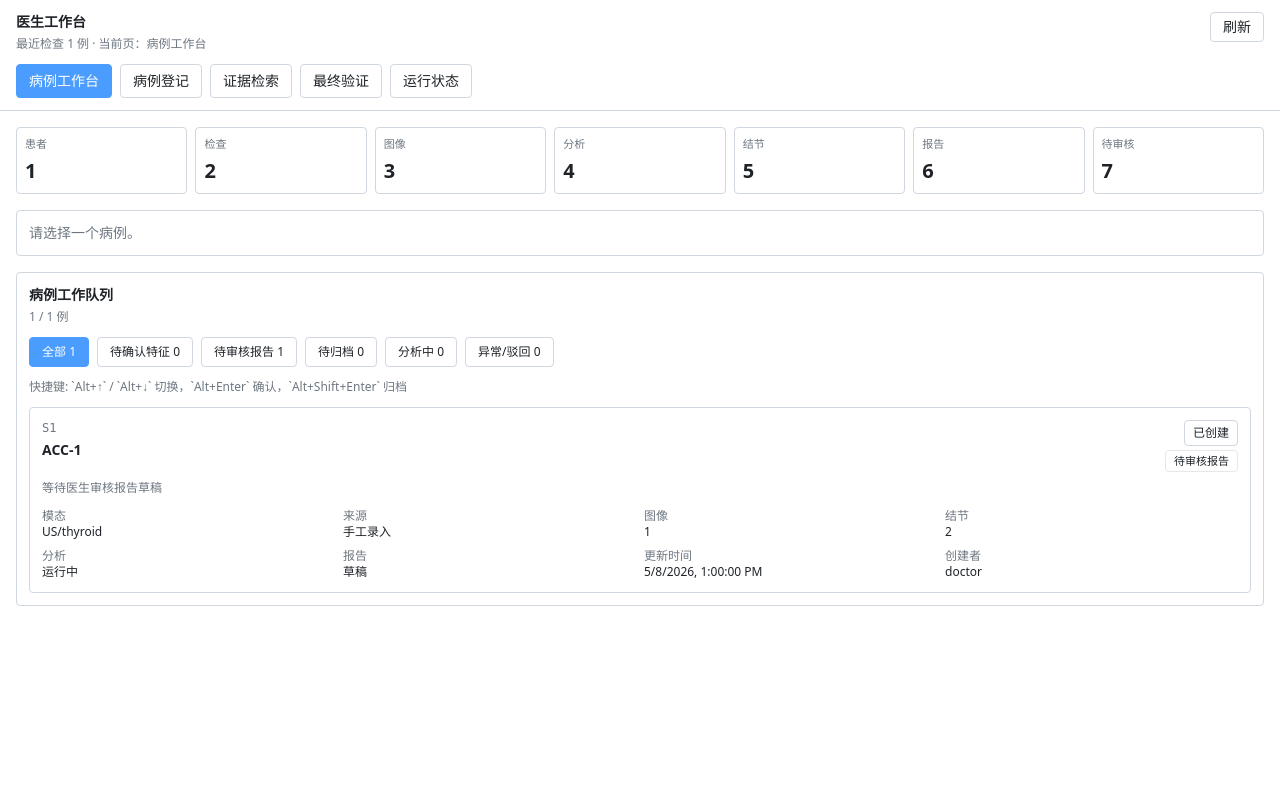
it: MedicalPanel › shows refreshed model evidence for a completed bbox revision audit
Expected: the heading "ACC-1" is shown, [42,440,82,460]
Click the button "ACC-1" at [640, 500], box [29,406,1251,593]
(page scrolled)
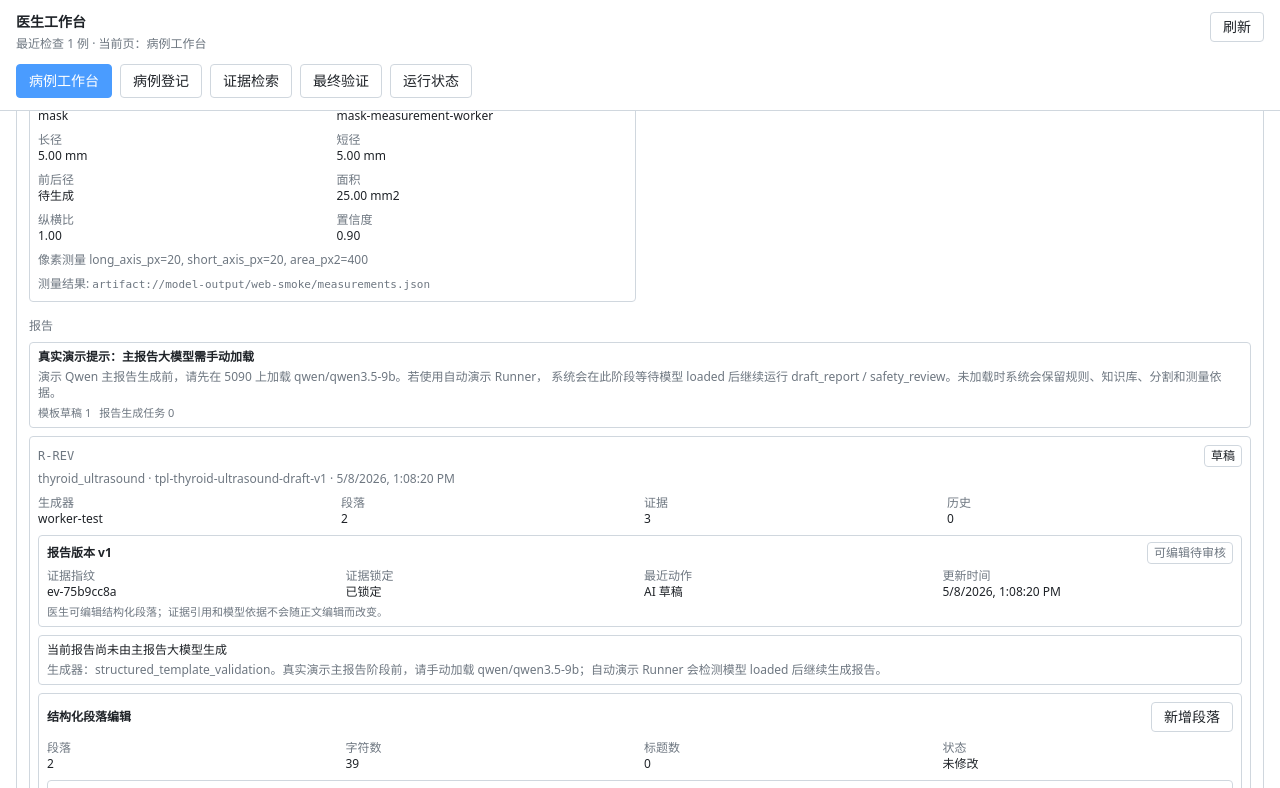
Now the text "R-REV" is shown, box [38,448,74,464]
